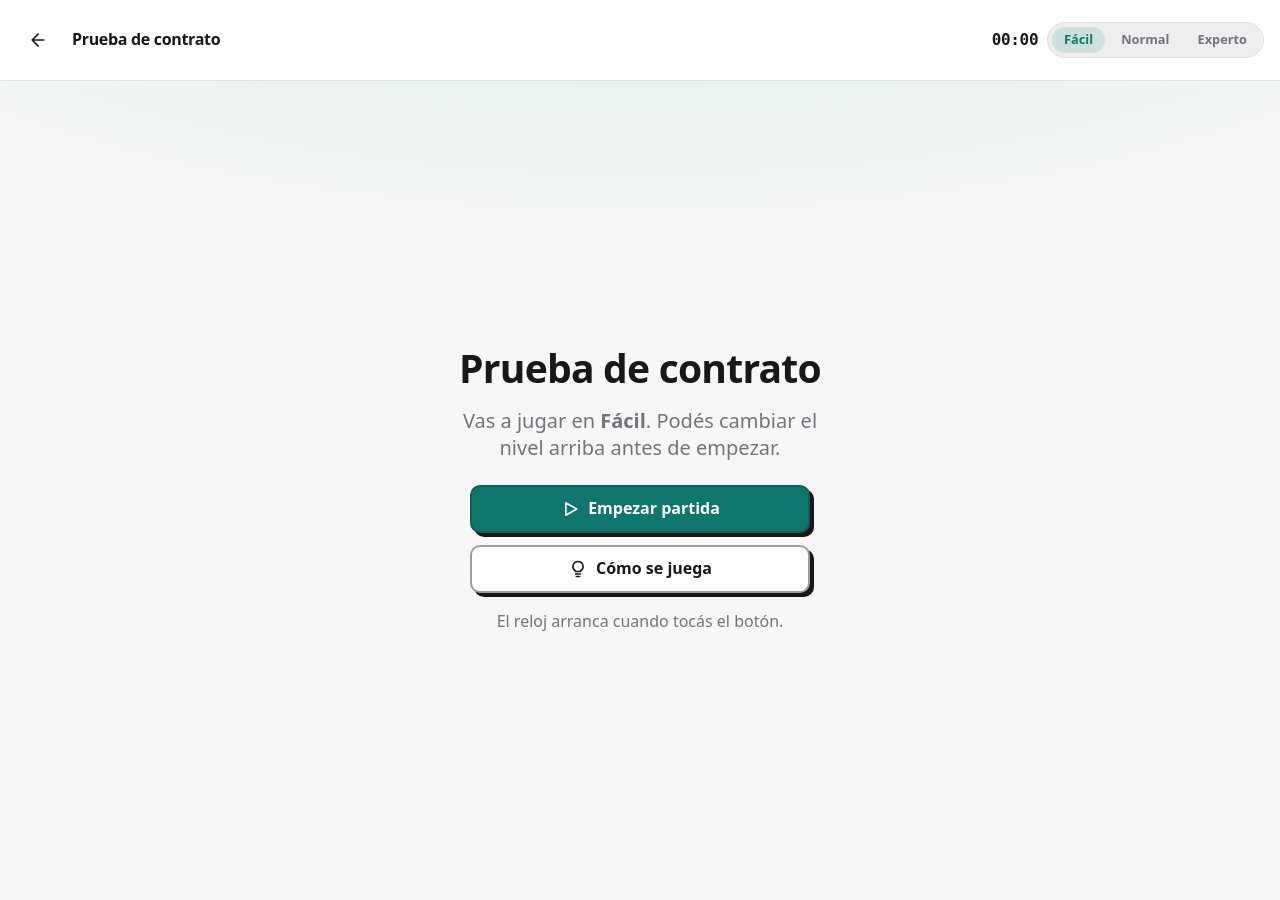
Scenario: changing difficulty › rebuilds the board when the player confirms
Click the button "Empezar partida".
click(640, 509)  # box [470,485,810,533]
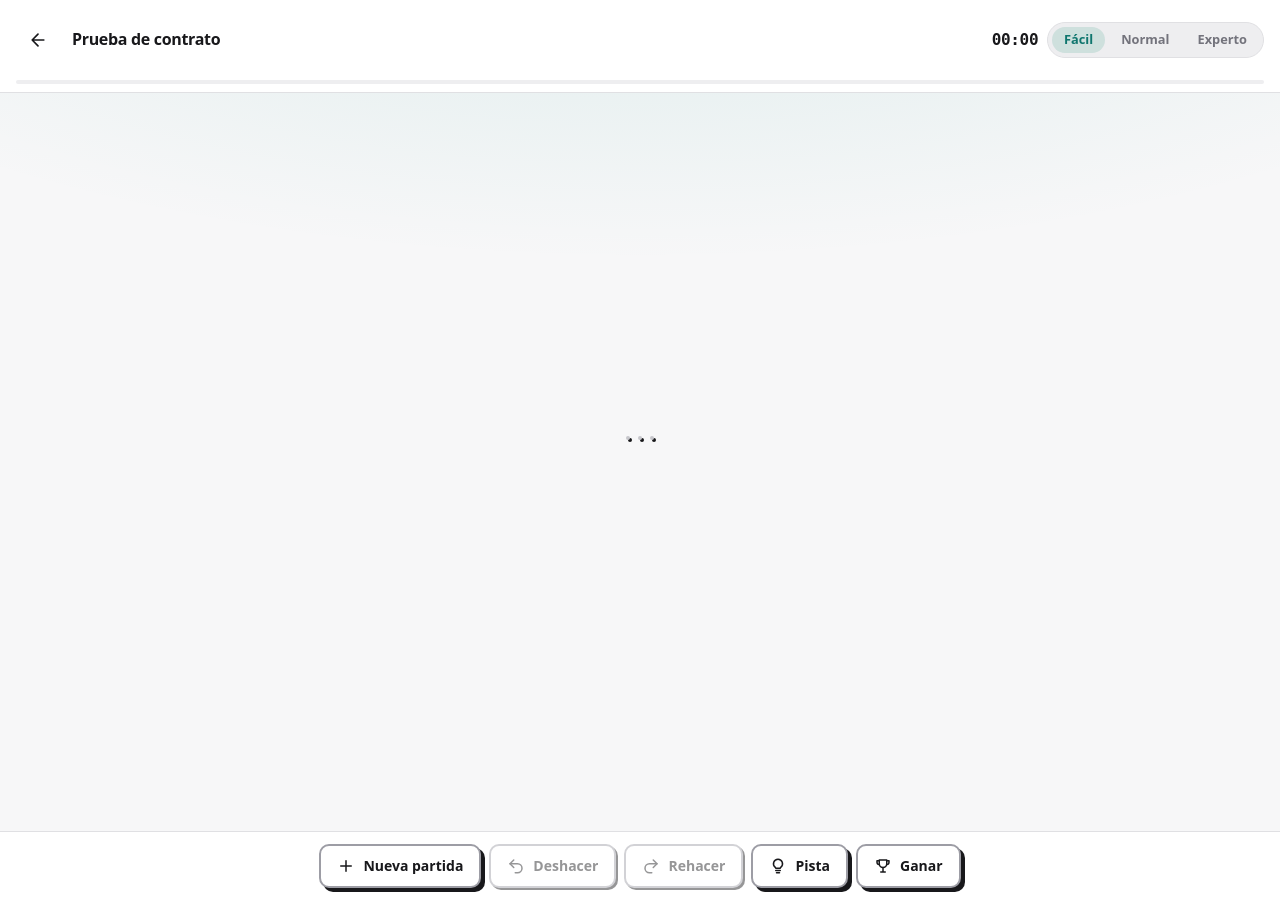
Click the button named "Casilla".
click(628, 438)  # box [626,436,630,440]
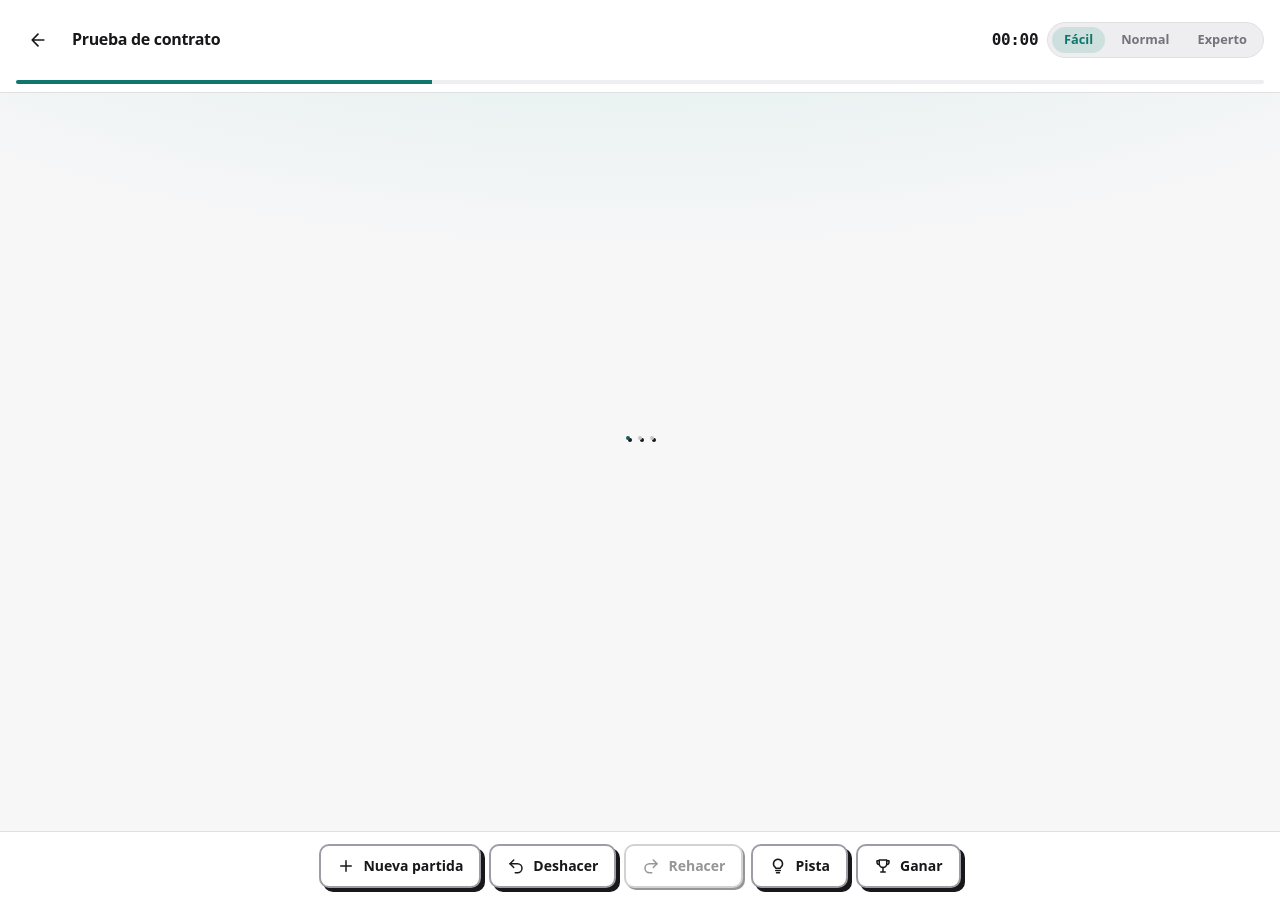
Click the radio button labelled "Experto".
click(1222, 40)  # box [1186,27,1259,53]
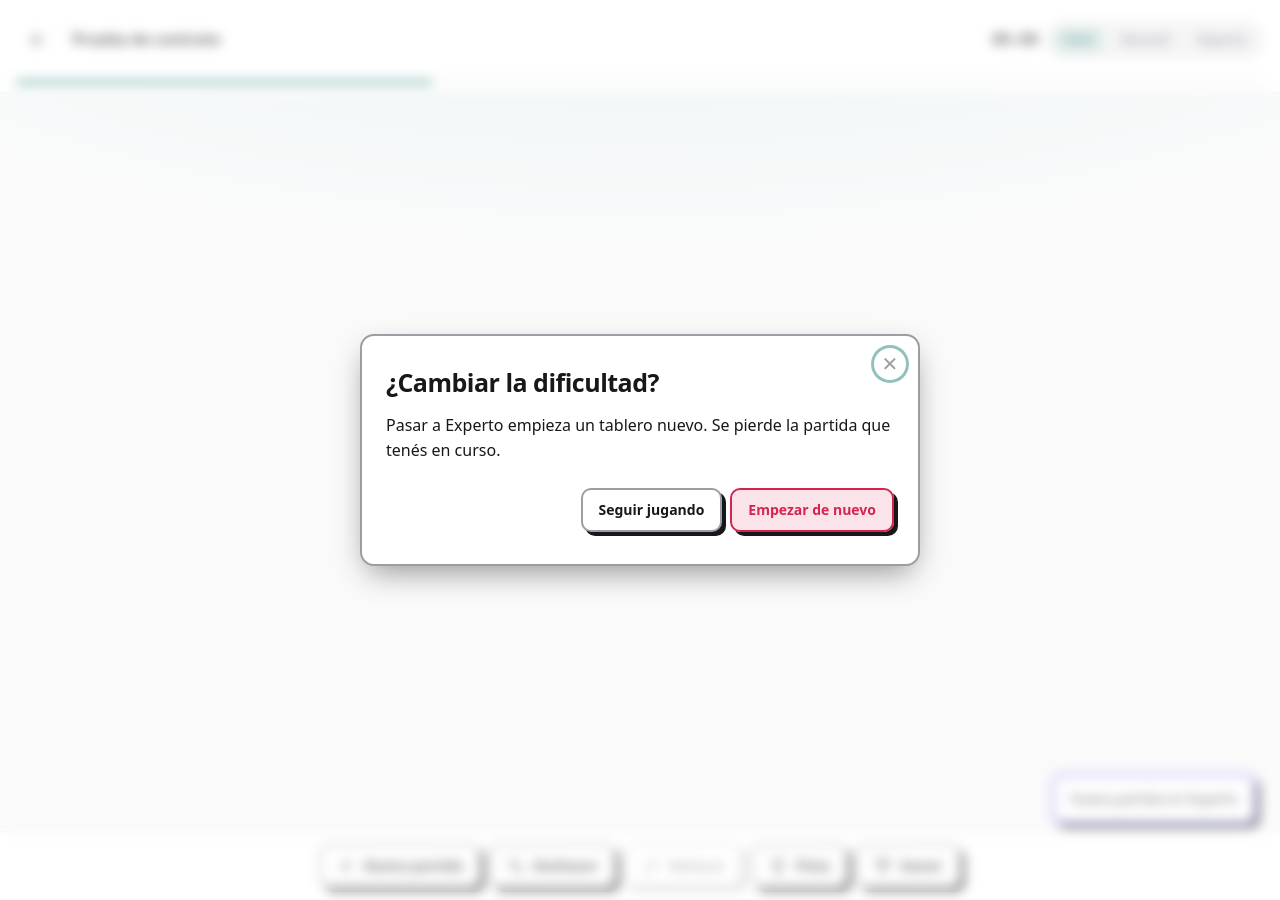
Click the button "Empezar de nuevo".
click(812, 510)  # box [730,488,894,532]
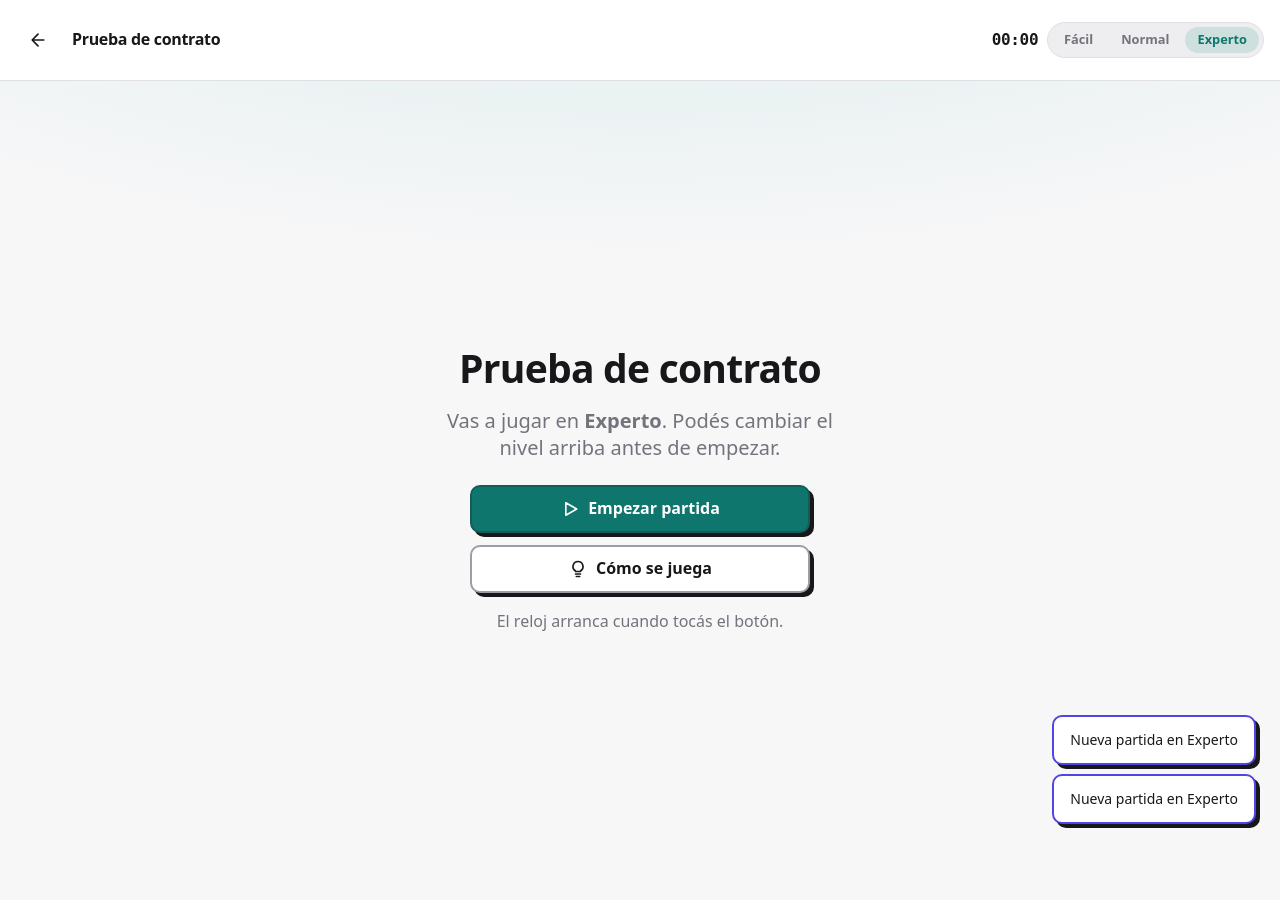
Click the button "Empezar partida".
click(640, 509)  # box [470,485,810,533]
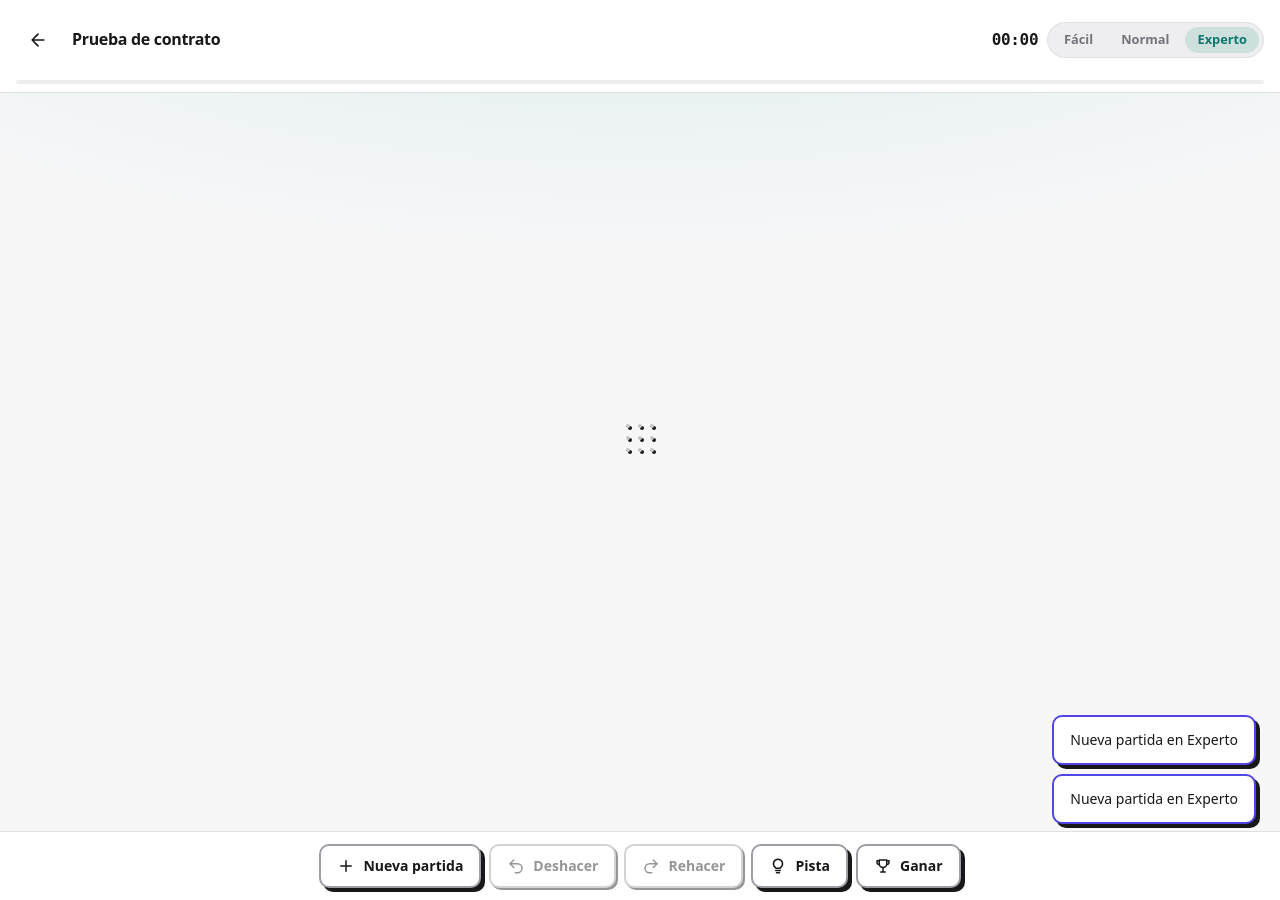
expect the number of buttons named "Casilla" is 9: met
